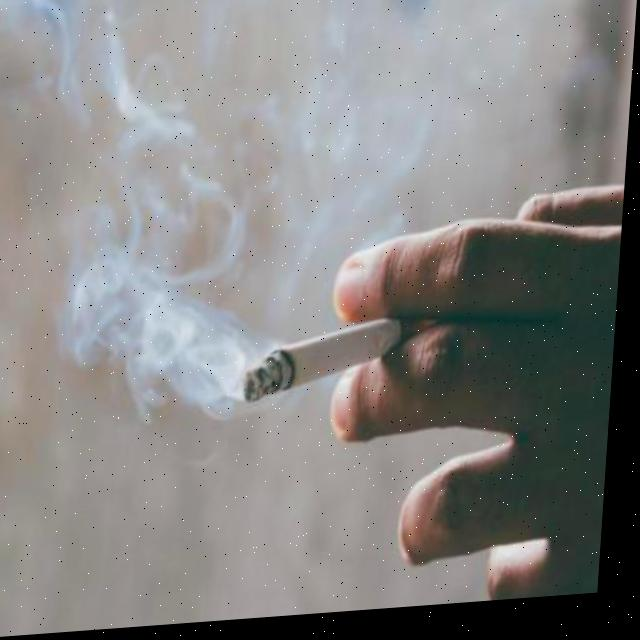cigarette: (248, 322, 410, 405)
